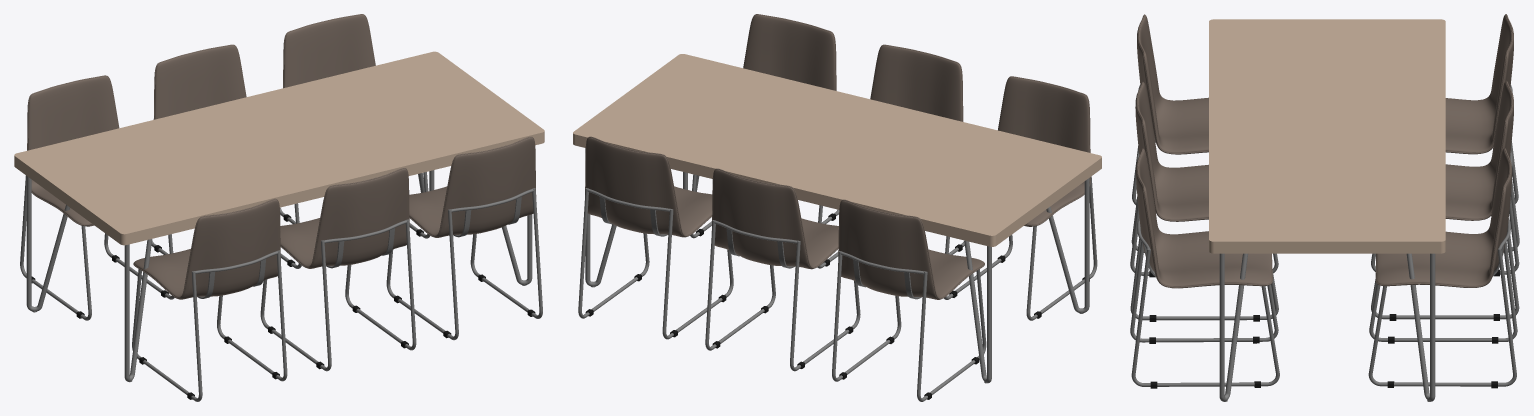
File: 563_ダイニングテーブルセット6人掛け.glb
3 views of the same model, side by side, from view 1: azimuth 30°, elevation 25°; view 2: azimuth 150°, elevation 25°; view 3: azimuth 270°, elevation 25° (orthographic). The views are drawn at different scales.
Parts seen in each view (by area): view 1: Body, chair6, chair4, chair5, chair2, chair1, chair3; view 2: Body, chair2, chair3, chair1, chair6, chair5, chair4; view 3: Body, chair5, chair3, chair4, chair1, chair6, chair2.
Boxes of the visible parts, x1,y1,x2,y2 form: Body: [14, 51, 544, 382]; chair6: [132, 198, 287, 401]; chair4: [260, 168, 416, 371]; chair5: [386, 136, 542, 340]; chair2: [20, 75, 174, 320]; chair1: [151, 44, 301, 268]; chair3: [280, 14, 429, 238]; Body: [573, 54, 1101, 383]; chair2: [832, 199, 986, 401]; chair3: [578, 136, 733, 339]; chair1: [705, 168, 860, 371]; chair6: [944, 76, 1097, 320]; chair5: [690, 14, 839, 238]; chair4: [817, 44, 964, 268]; Body: [1209, 19, 1445, 401]; chair5: [1130, 148, 1279, 388]; chair3: [1368, 148, 1517, 388]; chair4: [1130, 82, 1278, 321]; chair1: [1371, 80, 1519, 320]; chair6: [1131, 14, 1208, 252]; chair2: [1445, 14, 1519, 252].
Size of the model in its own units: 2 by 0.8286 by 1.48.
